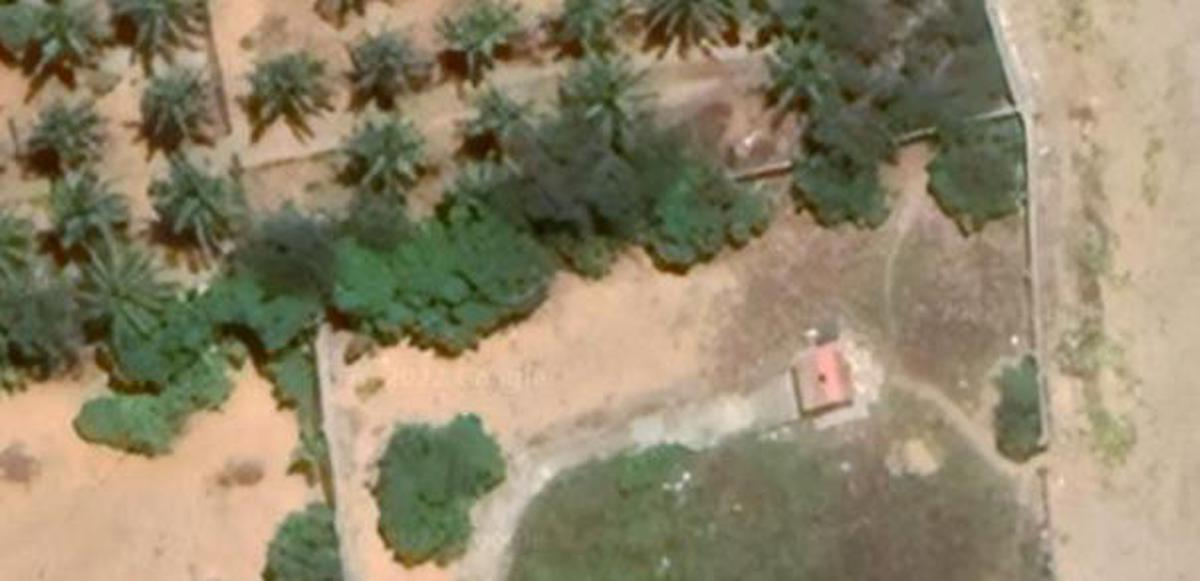coconut: (557, 57, 654, 144), (77, 255, 166, 345), (456, 81, 543, 172), (345, 17, 428, 105), (21, 93, 103, 182), (245, 49, 331, 132), (341, 118, 424, 202), (45, 178, 126, 259), (154, 166, 232, 249), (769, 31, 846, 111), (138, 65, 216, 142), (115, 0, 206, 65), (442, 0, 519, 69), (23, 9, 97, 77), (545, 0, 622, 53)
